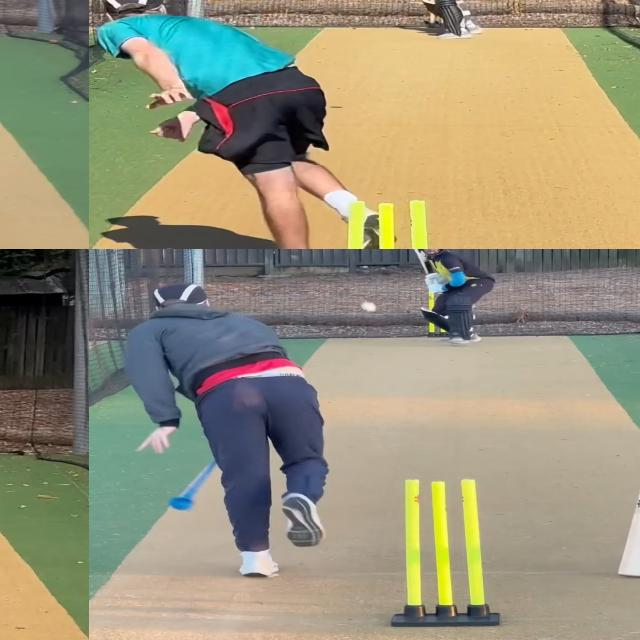Cricket ball: (356, 296, 384, 319)
Stumps: (390, 478, 502, 629)
